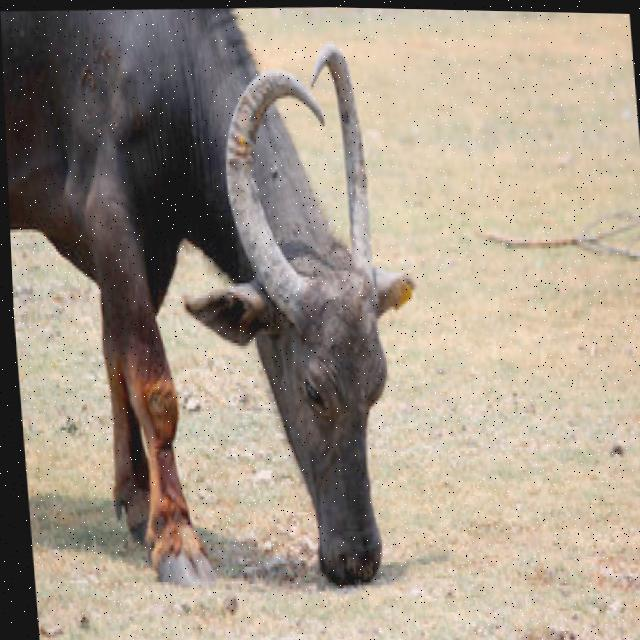Buffalo: (0, 0, 440, 600)
